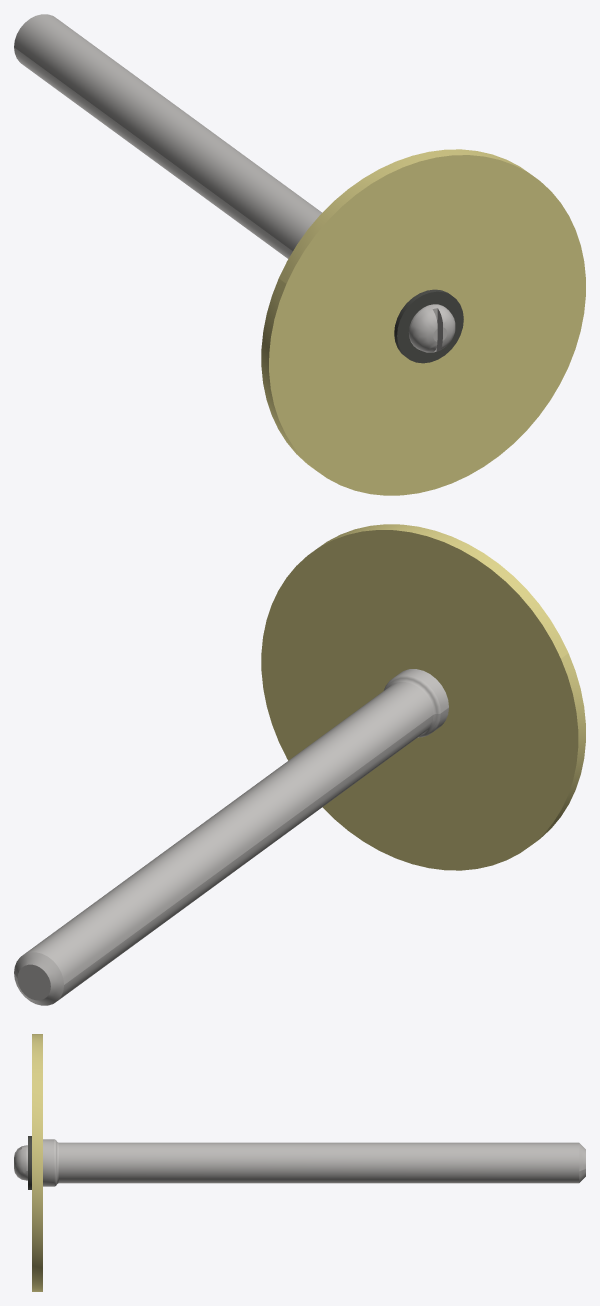
3 renders of one model, top to bottom at view 1: azimuth 30°, elevation 25°; view 2: azimuth 150°, elevation 25°; view 3: azimuth 270°, elevation 25°, orthographic. The views are drawn at different scales.
Bounding box in the file's own units: 18.98 × 18.98 × 42.12.
